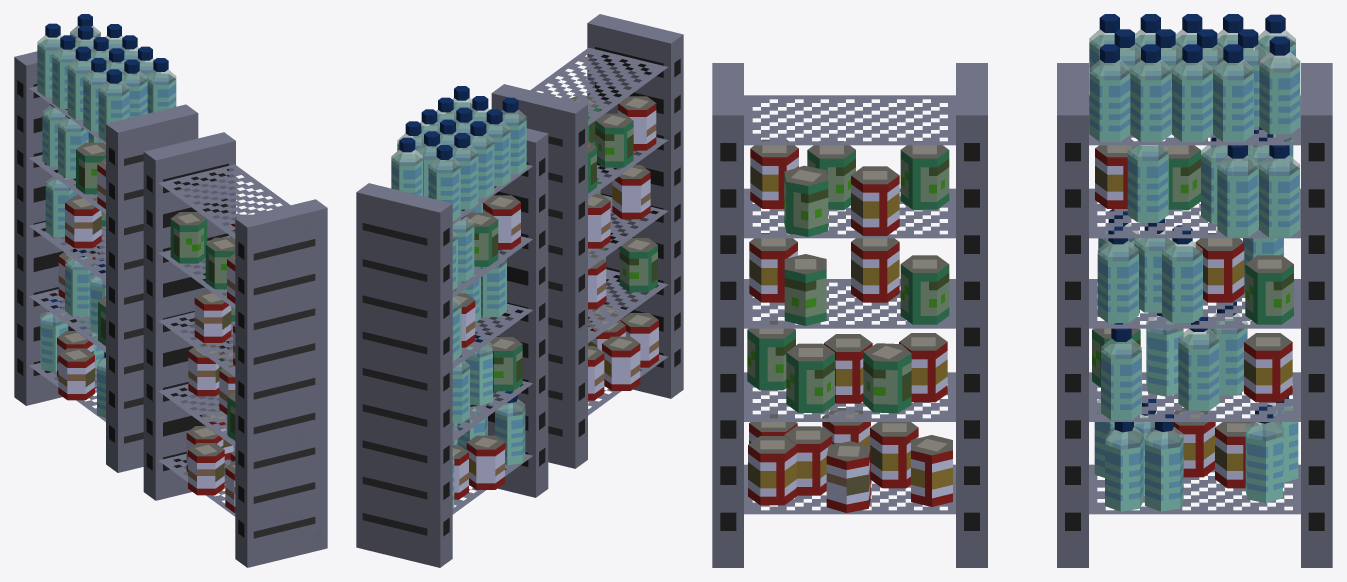
The model's file is shelf.glb.
3 views of the same model, side by side, from view 1: azimuth 30°, elevation 25°; view 2: azimuth 150°, elevation 25°; view 3: azimuth 270°, elevation 25° (orthographic). The views are drawn at different scales.
Visible parts, largest first — view 1: Circle.001_2, Circle.000_3; view 2: Circle.000_3, Circle.001_2; view 3: Circle.000_3, Circle.001_2.
Boxes of the visible parts, x1,y1,x2,y2 form: Circle.001_2: (143, 132, 327, 567); Circle.000_3: (14, 14, 198, 472); Circle.000_3: (356, 86, 548, 567); Circle.001_2: (491, 14, 683, 468); Circle.000_3: (1057, 14, 1332, 567); Circle.001_2: (712, 63, 987, 567).
Bounding box in the file's own units: 1.5 × 6.45 × 7.13.
2 materials, 2 textured.
